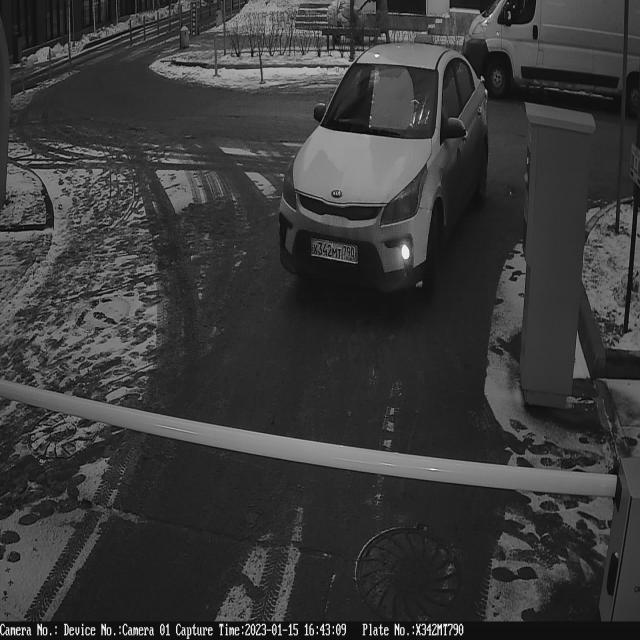car-plate-numbers: (310, 235, 362, 268)
